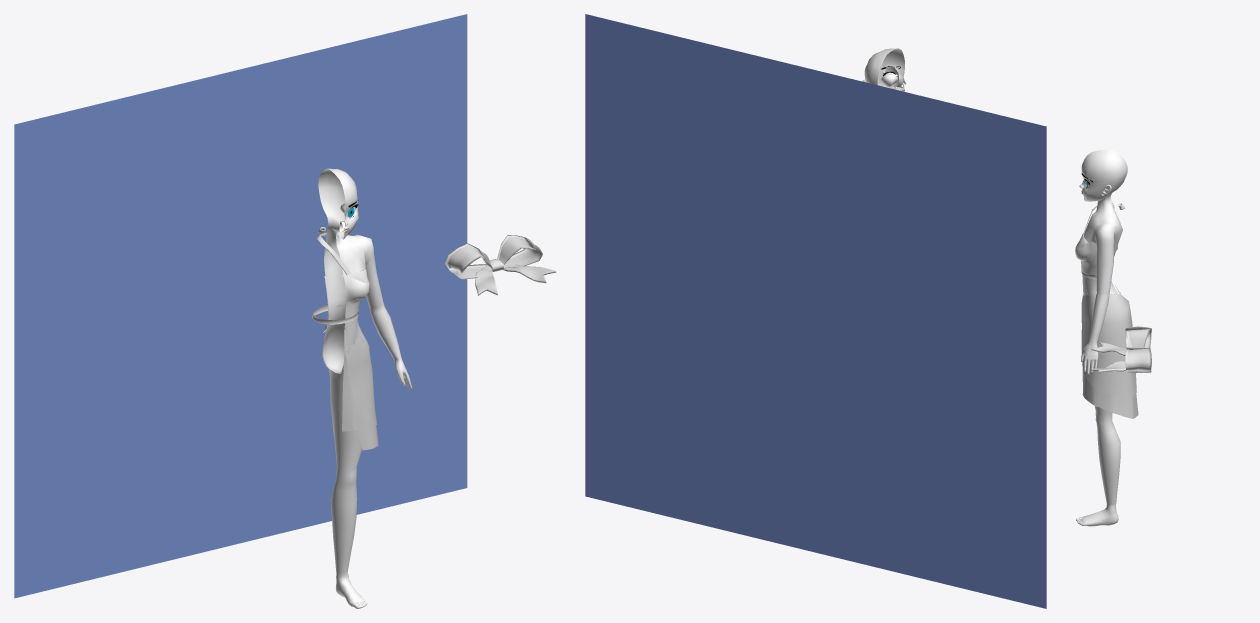
Rendered from my character topology.glb.
The picture shows the model from 3 angles, left to right: view 1: azimuth 30°, elevation 25°; view 2: azimuth 150°, elevation 25°; view 3: azimuth 270°, elevation 25°; orthographic projection. The views are drawn at different scales.
Visible parts, largest first — view 1: Plane.001, head, Plane, Cube.001; view 2: Plane.001, head; view 3: head, Plane, Cube.001.
Boxes of the visible parts, x1=… form: Plane.001: x1=14, y1=14, x2=467, y2=598; head: x1=318, y1=168, x2=412, y2=608; Plane: x1=317, y1=232, x2=378, y2=450; Cube.001: x1=445, y1=235, x2=556, y2=295; Plane.001: x1=585, y1=14, x2=1046, y2=608; head: x1=864, y1=48, x2=906, y2=91; head: x1=1075, y1=149, x2=1127, y2=526; Plane: x1=1075, y1=203, x2=1138, y2=418; Cube.001: x1=1091, y1=326, x2=1151, y2=372.
Size of the model in its own units: 35.12 by 34.61 by 13.21.
